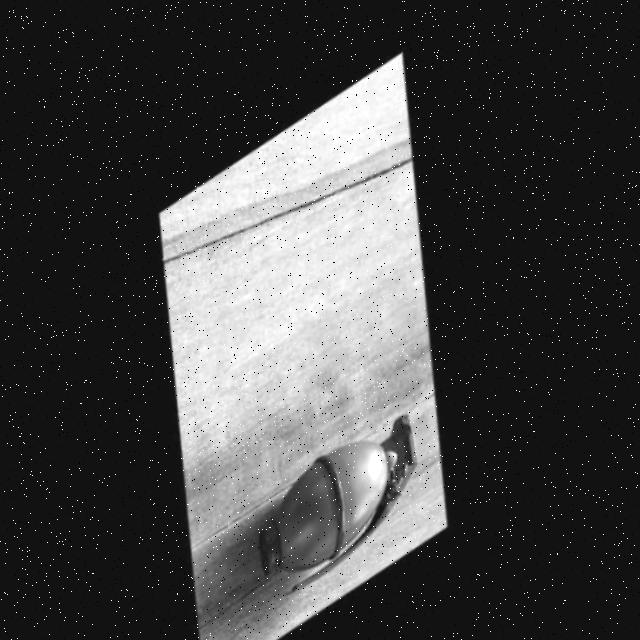grenade: (225, 345, 457, 640)
